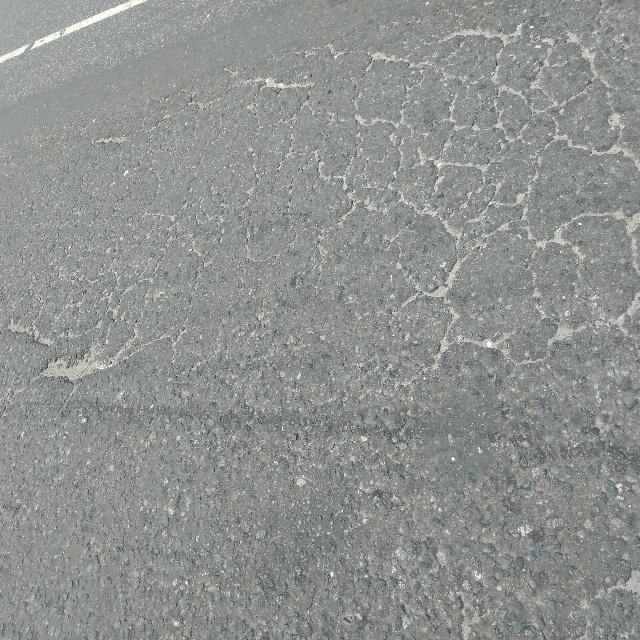Crack: (246, 26, 640, 466)
